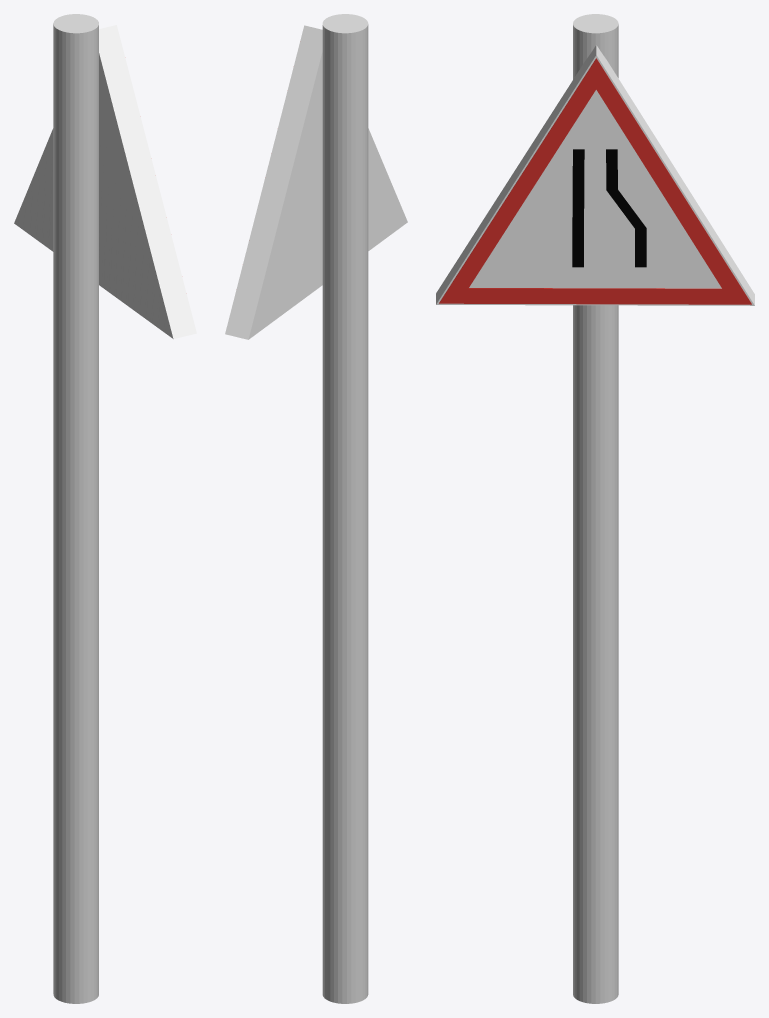
The model's file is SignRoadNarrowsOnRightSide.fbx.
3 renders of one model, left to right at view 1: azimuth 30°, elevation 25°; view 2: azimuth 150°, elevation 25°; view 3: azimuth 270°, elevation 25°, orthographic.
Parts seen in each view (by area): view 1: Cylinder.021, SignTriangleUp.005; view 2: Cylinder.021, SignTriangleUp.005; view 3: Cylinder.021, SignTriangleUp.005, SignTriangleUp.006, Cube.009, Cube.010.
Boxes of the visible parts, bbox=[...] form: Cylinder.021: bbox=[53, 14, 98, 1003]; SignTriangleUp.005: bbox=[14, 25, 196, 338]; Cylinder.021: bbox=[322, 14, 368, 1003]; SignTriangleUp.005: bbox=[225, 25, 407, 339]; Cylinder.021: bbox=[573, 14, 618, 1003]; SignTriangleUp.005: bbox=[436, 45, 754, 305]; SignTriangleUp.006: bbox=[439, 58, 751, 304]; Cube.009: bbox=[572, 149, 584, 267]; Cube.010: bbox=[606, 149, 646, 267].
Size of the model in its own units: 112 by 1671 by 498.
